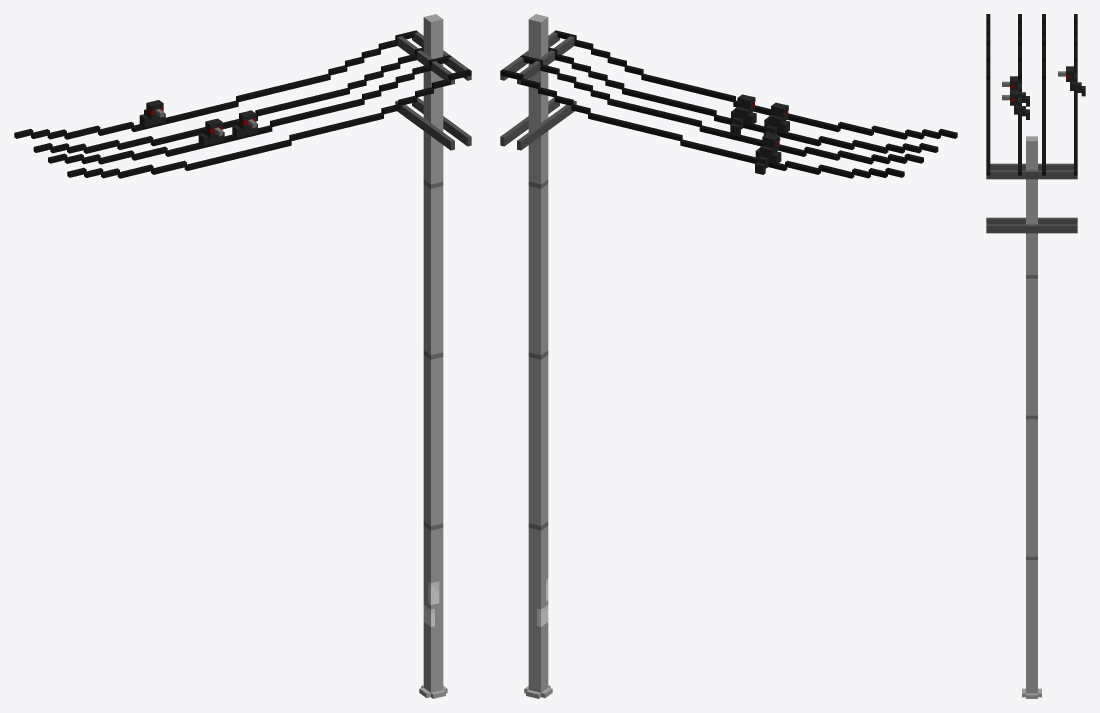
Rendered from poleSix.glb.
3 views of the same model, side by side, from view 1: azimuth 30°, elevation 25°; view 2: azimuth 150°, elevation 25°; view 3: azimuth 270°, elevation 25° (orthographic). The views are drawn at different scales.
Visible parts, largest first — view 1: ObjObject; view 2: ObjObject; view 3: ObjObject.
Part boxes in pixels (x1,y1,x2,y2): ObjObject: (14,14,471,698); ObjObject: (500,14,957,698); ObjObject: (986,14,1085,698).
Size of the model in its own units: 9.6 by 15.4 by 2.5.
Materials: 1 (1 with a texture image).
